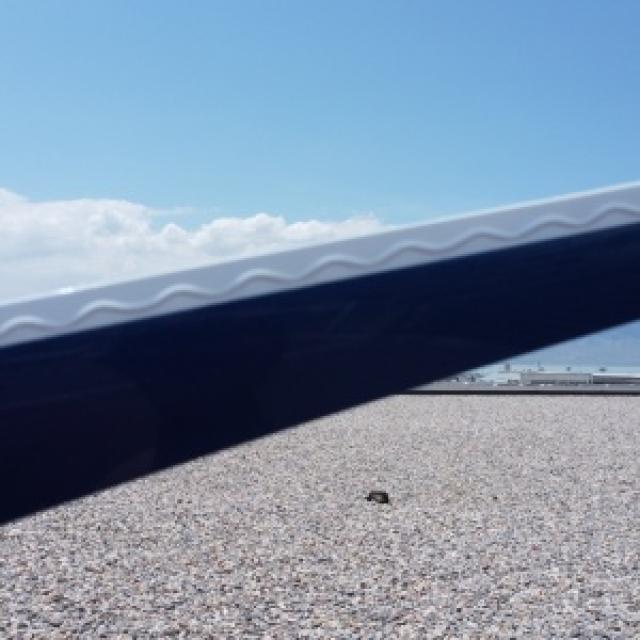healthy: (0, 183, 638, 518)
